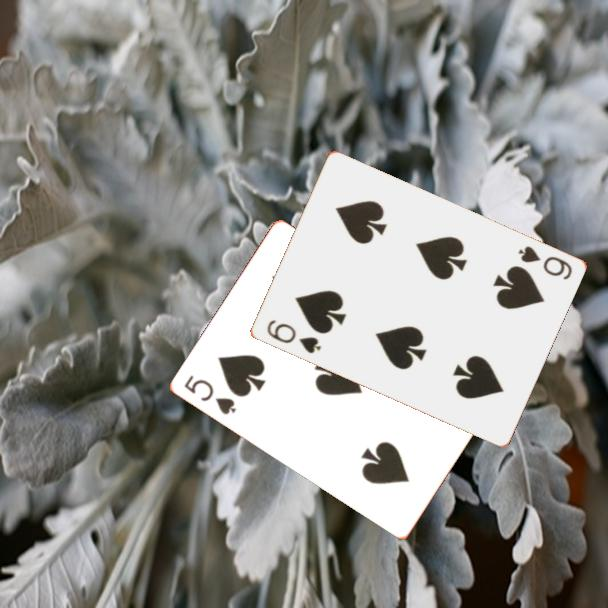s05: (181, 371, 240, 418)
s06: (263, 316, 324, 357), (514, 242, 575, 283)
